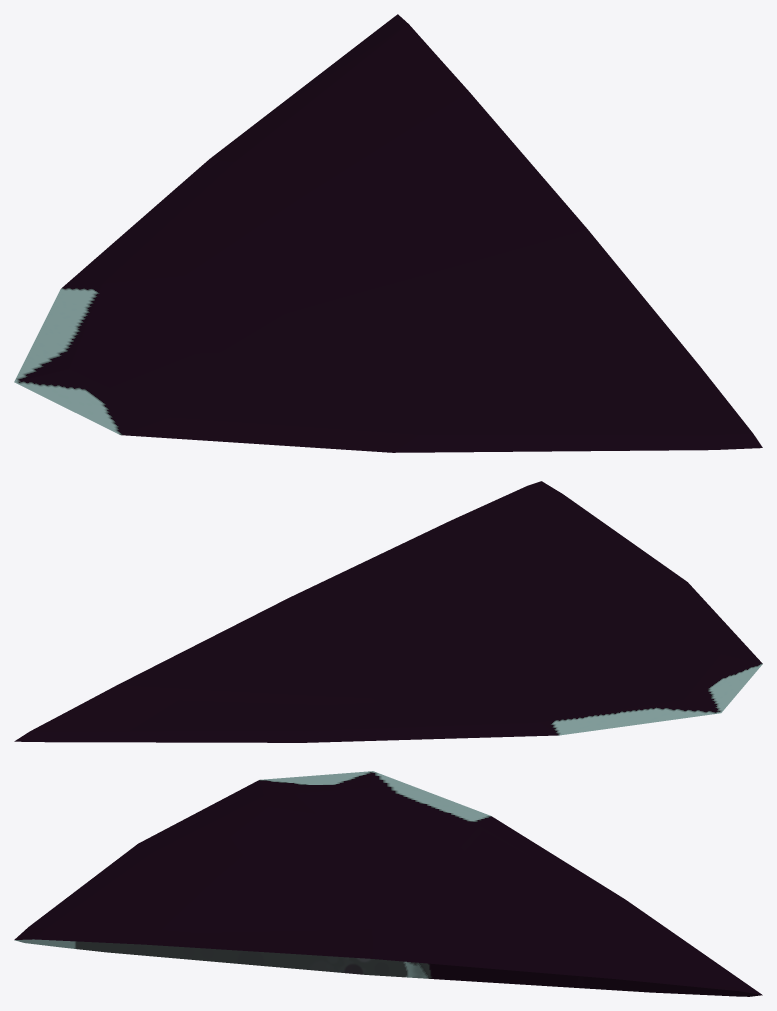
File: two.obj
3 renders of one model, top to bottom at view 1: azimuth 30°, elevation 25°; view 2: azimuth 150°, elevation 25°; view 3: azimuth 270°, elevation 25°, orthographic. The views are drawn at different scales.
Parts seen in each view (by area): view 1: right-hand.001; view 2: right-hand.001; view 3: right-hand.001.
Boxes of the visible parts, left/top/right/bottom form: right-hand.001: left=14, top=14, right=762, bottom=452; right-hand.001: left=14, top=481, right=762, bottom=742; right-hand.001: left=14, top=771, right=762, bottom=996.
Bounding box in the file's own units: 4.86 × 0.1642 × 6.78.
Materials: 1 (1 with a texture image).
